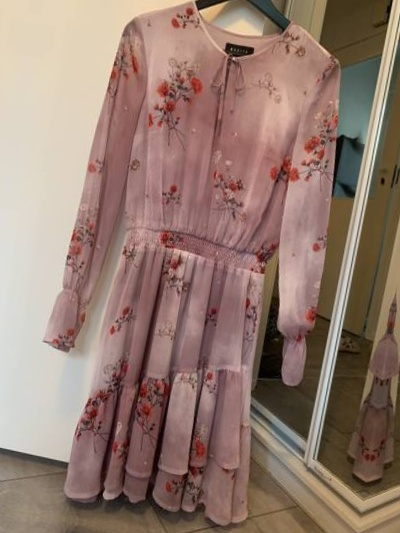Dress: (11, 0, 396, 522)
